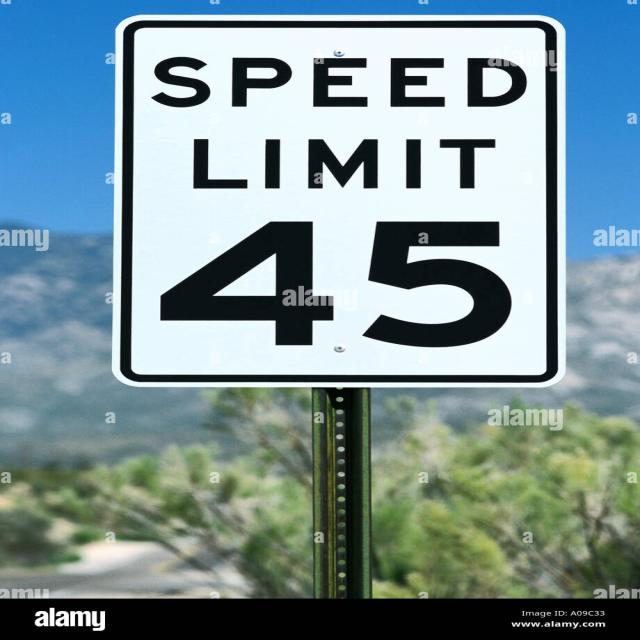Speed Limit Signs: (113, 15, 563, 388)
